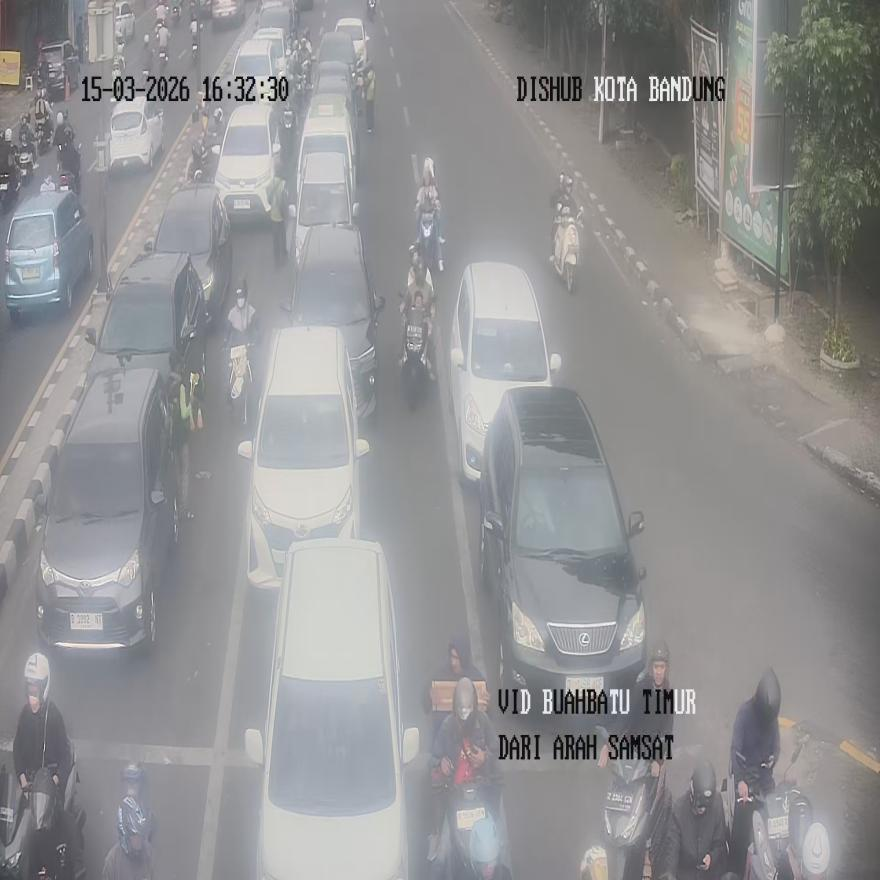Motor: (244, 540, 420, 878), (479, 386, 646, 716), (34, 363, 179, 654), (238, 326, 368, 589), (449, 262, 561, 483), (84, 249, 208, 421), (278, 222, 384, 418), (145, 181, 231, 327), (5, 187, 93, 321)
Truk: (721, 746, 812, 879), (0, 744, 85, 880), (591, 726, 665, 880), (428, 749, 508, 880), (399, 290, 434, 405), (553, 210, 580, 292), (228, 342, 253, 425), (418, 210, 441, 276), (58, 140, 82, 195), (16, 143, 36, 186), (368, 0, 376, 20)
